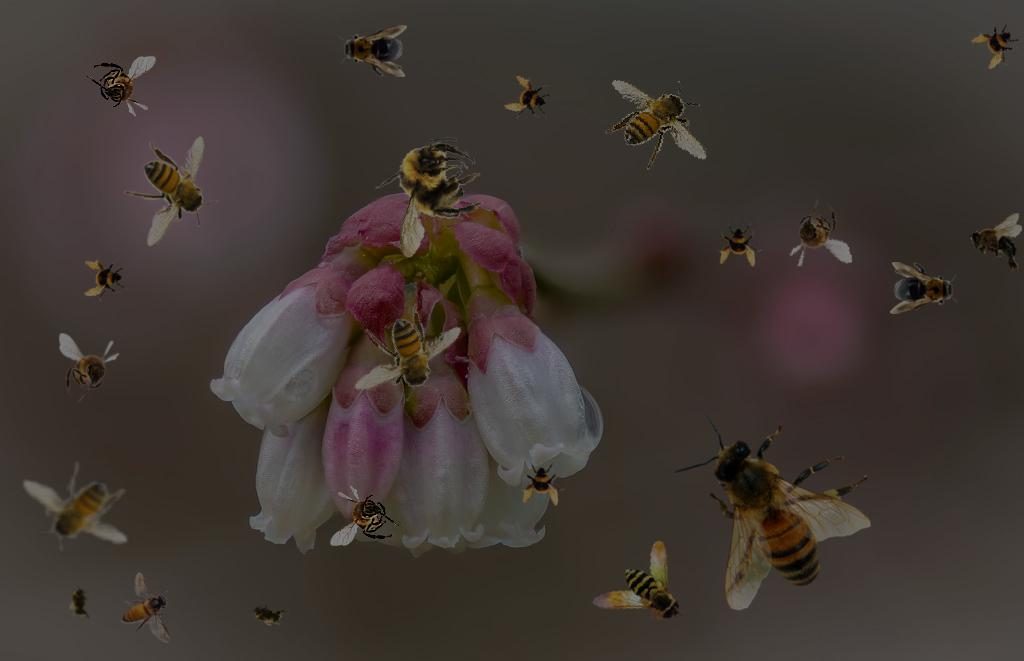Bee: (672, 407, 871, 611), (334, 283, 475, 429), (593, 64, 724, 184), (369, 133, 490, 262), (16, 456, 135, 558), (124, 136, 218, 247), (584, 538, 684, 634), (777, 194, 854, 276), (59, 333, 120, 403), (330, 485, 400, 546), (86, 56, 156, 117), (121, 572, 171, 643), (890, 262, 958, 314), (339, 25, 407, 77), (967, 14, 1024, 76), (969, 213, 1022, 275), (501, 72, 557, 128), (81, 256, 129, 304), (718, 223, 762, 267), (521, 462, 565, 506), (244, 597, 290, 631), (69, 582, 91, 622)
